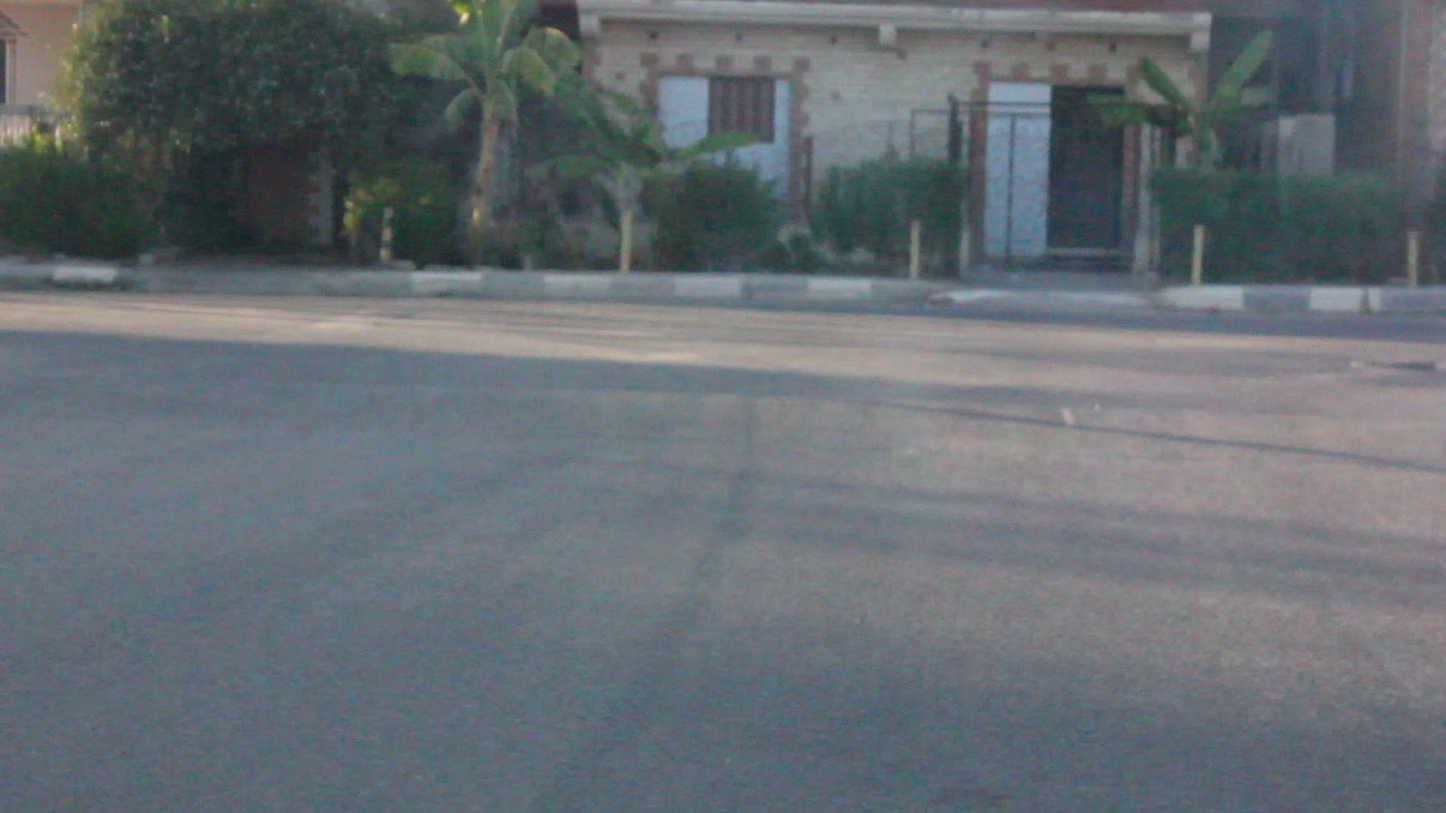Bump: (0, 342, 1445, 428)
